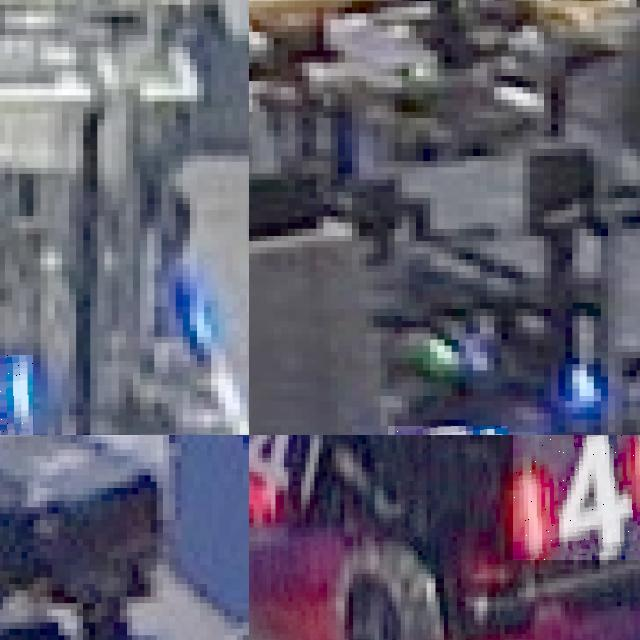B2: (0, 354, 33, 435)
R4: (513, 435, 640, 560)
